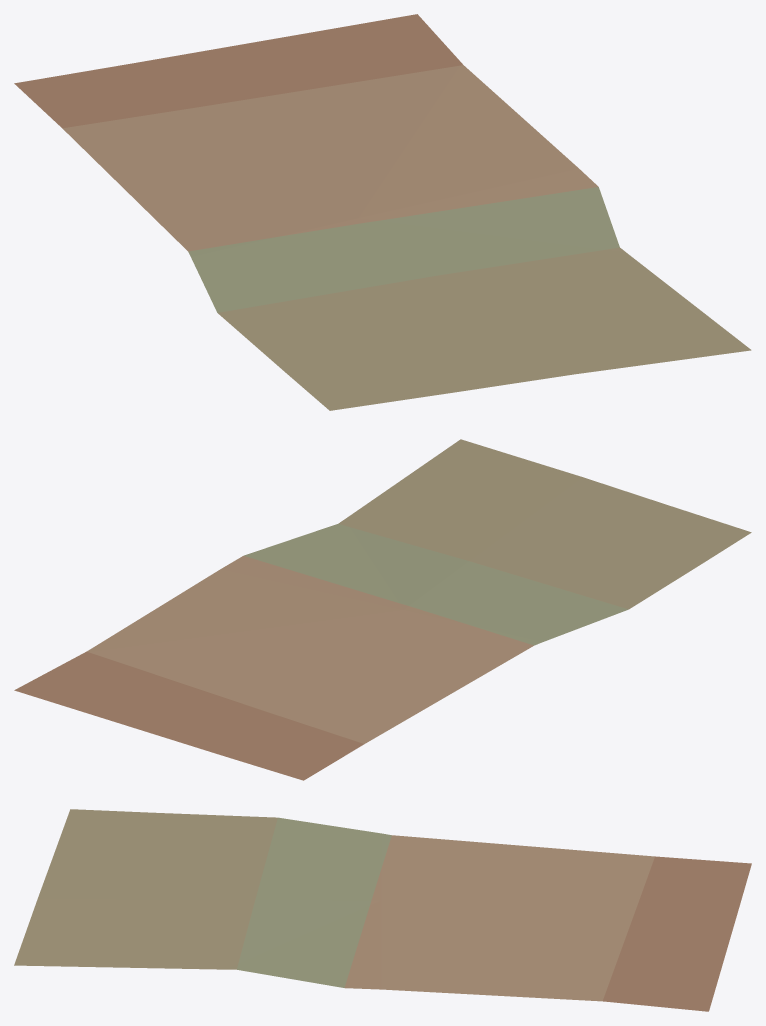
Rendered from farm_30_24_soil.glb.
3 renders of one model, top to bottom at view 1: azimuth 30°, elevation 25°; view 2: azimuth 150°, elevation 25°; view 3: azimuth 270°, elevation 25°, orthographic. The views are drawn at different scales.
Visible parts, largest first — view 1: geometry_0; view 2: geometry_0; view 3: geometry_0.
Boxes of the visible parts, x1,y1,x2,y2 form: geometry_0: (14,14,751,410); geometry_0: (14,439,751,780); geometry_0: (14,809,751,1011).
Bounding box in the file's own units: 83.57 × 2.63 × 137.
